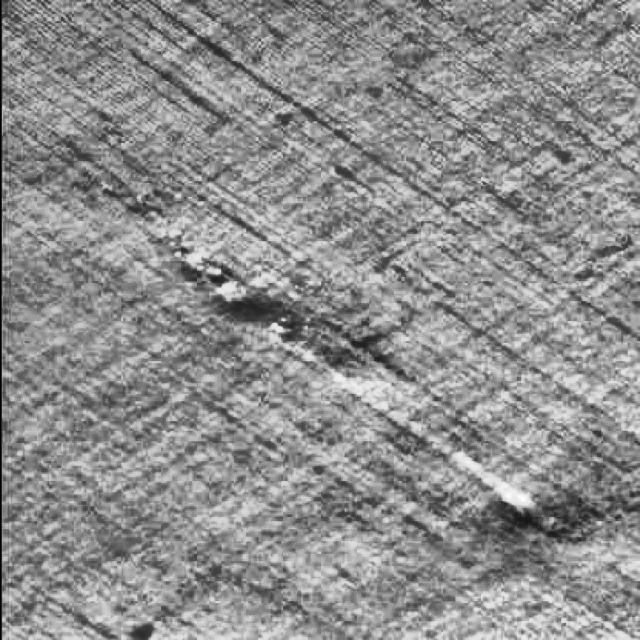thread_error: (141, 207, 587, 551)
